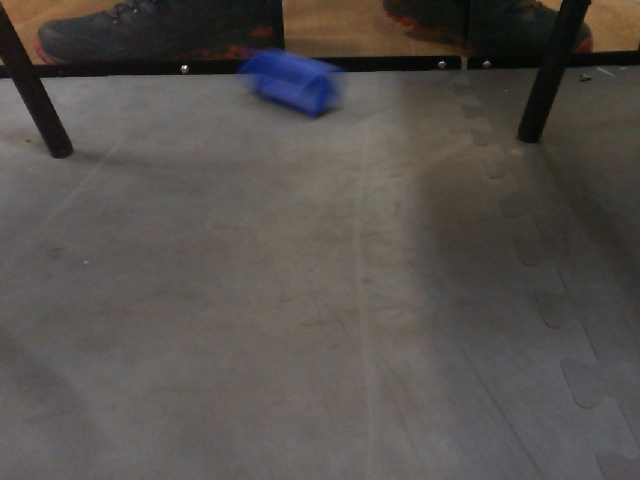BlueSample: (239, 42, 349, 133)
